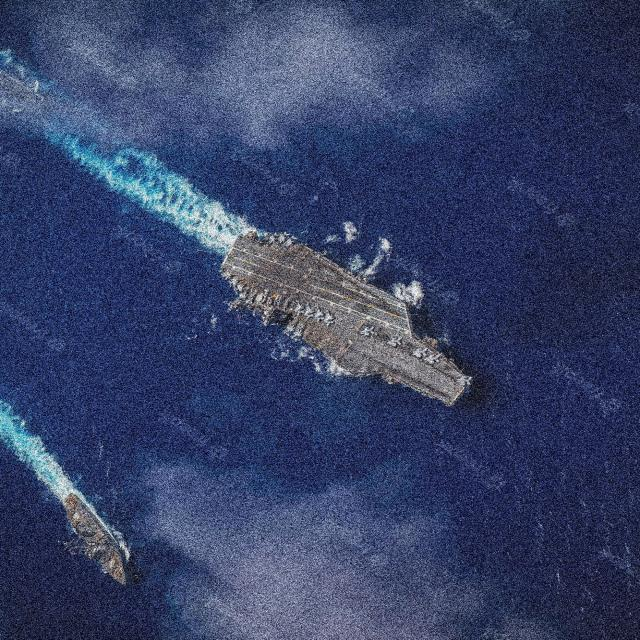ship2: (220, 229, 471, 408), (60, 487, 133, 587)
